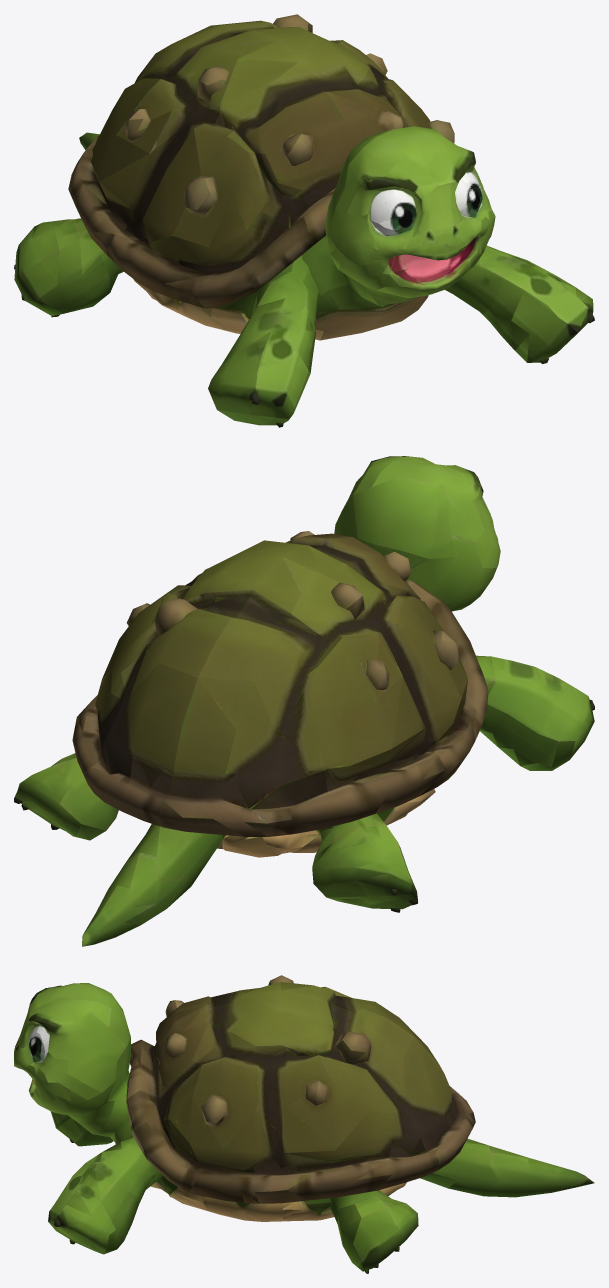
File: mono.glb
The picture shows the model from 3 angles, top to bottom: view 1: azimuth 30°, elevation 25°; view 2: azimuth 150°, elevation 25°; view 3: azimuth 270°, elevation 25°; orthographic projection. The views are drawn at different scales.
Visible parts, largest first — view 1: mesh_node; view 2: mesh_node; view 3: mesh_node.
Part boxes in pixels (x1,y1,x2,y2): mesh_node: [14, 14, 594, 427]; mesh_node: [14, 456, 594, 946]; mesh_node: [14, 975, 594, 1273].
Size of the model in its own units: 0.6191 by 0.4111 by 1.
Materials: 1 (1 with a texture image).
